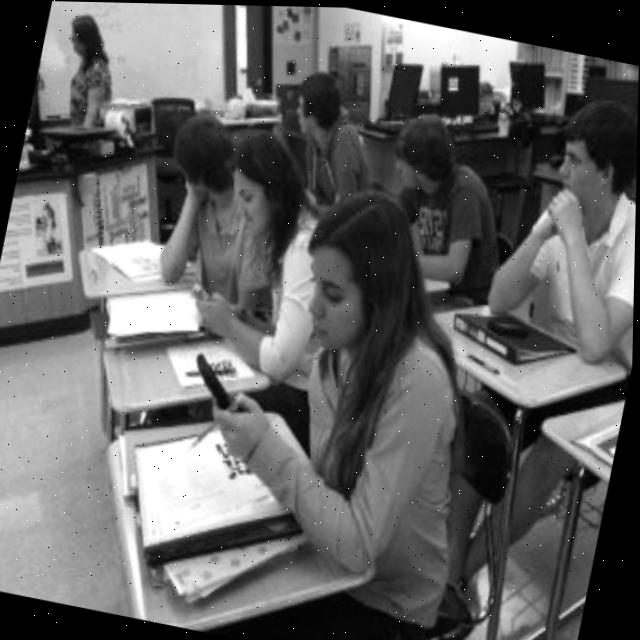phone: (189, 343, 246, 414)
